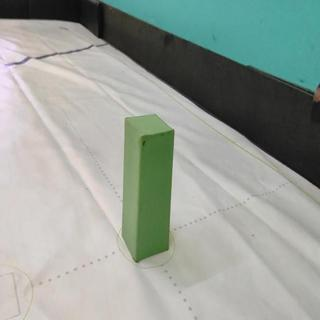greenbox: (121, 111, 176, 266)
